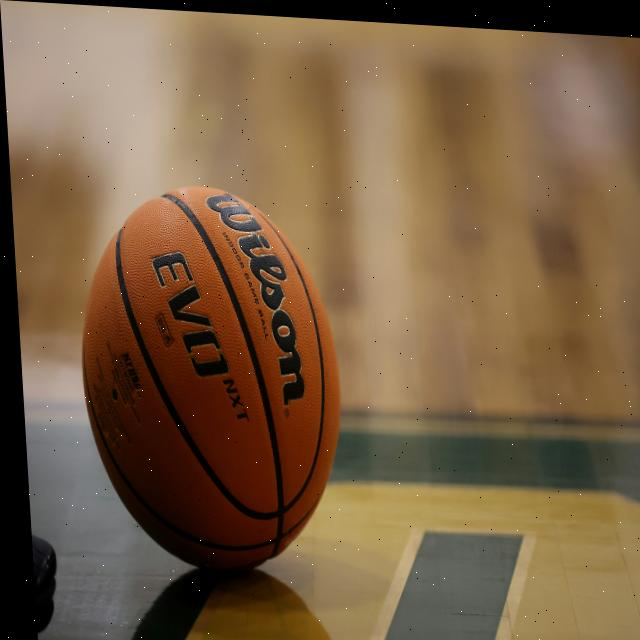Basketball: (72, 178, 351, 576)
